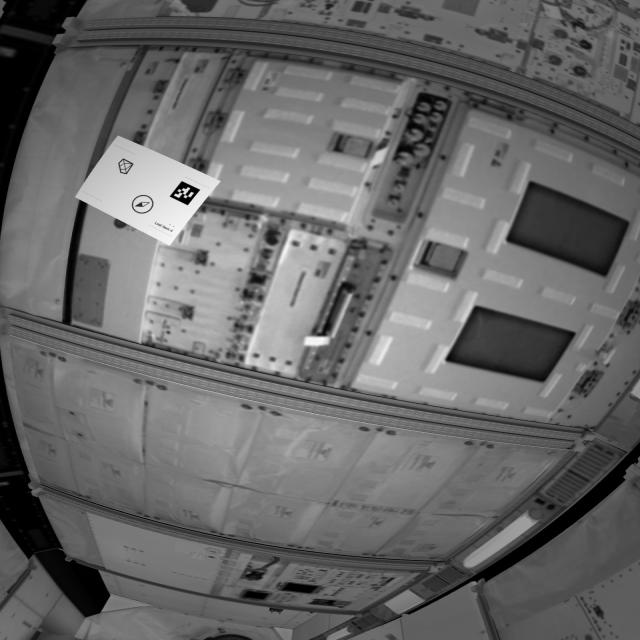compass: (131, 193, 160, 218)
diamond: (112, 159, 143, 177)
